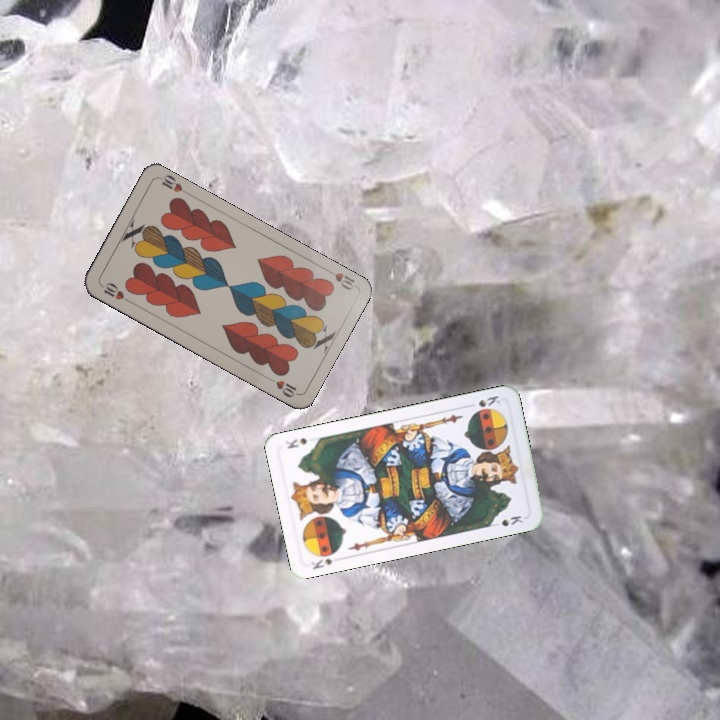H10: (321, 264, 358, 293), (97, 278, 134, 305)
SK: (471, 391, 503, 414), (307, 554, 335, 572)
